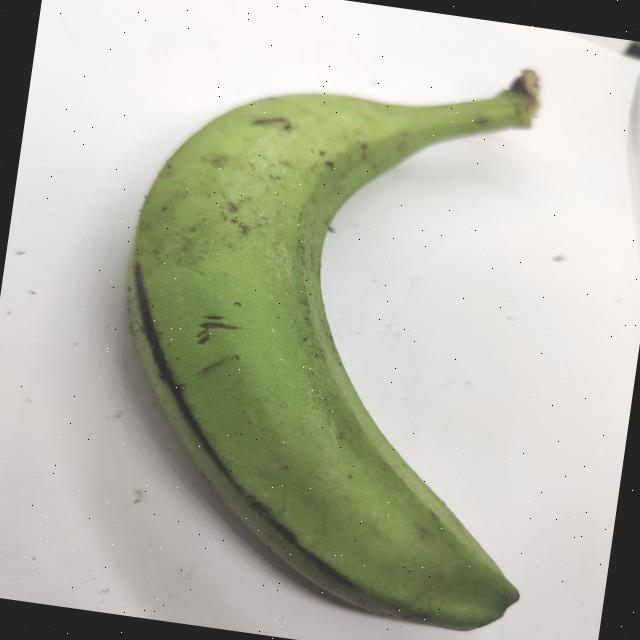Raw: (62, 1, 637, 640)
